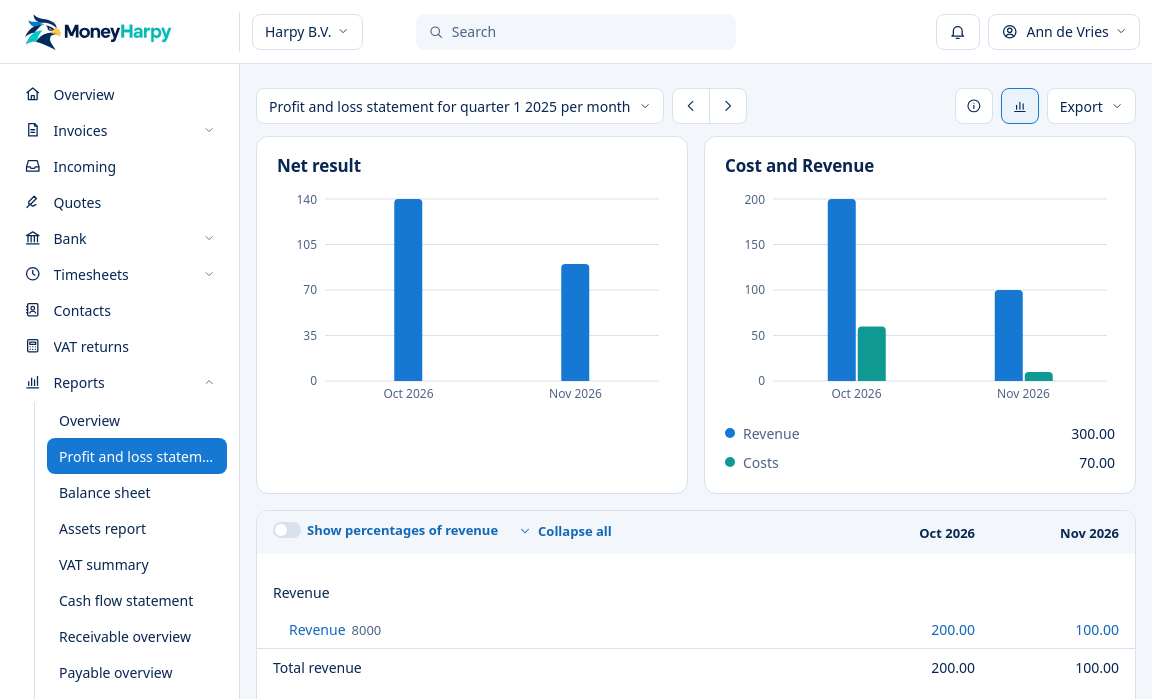
Test: reports › steps to the period before and shows it per quarter
The image size is (1152, 699).
Click the link named "Go to quarter 4 2024" at {"x": 691, "y": 106}, box [672,88,710,124]
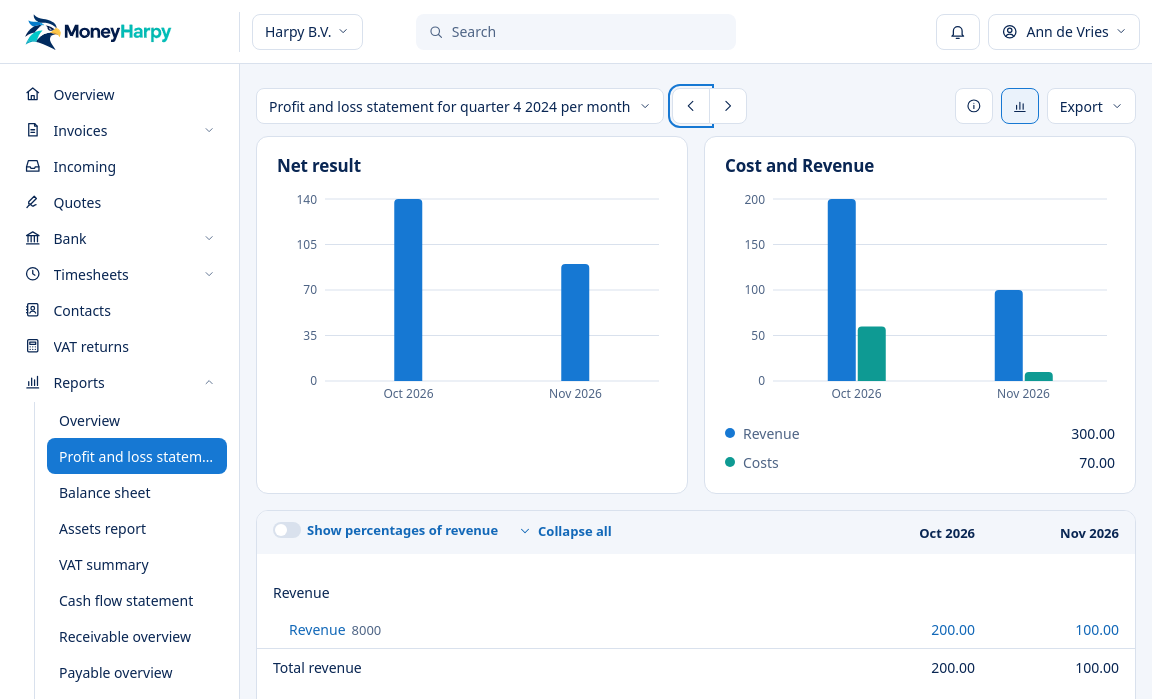
Click the button "Profit and loss statement for quarter 4 2024 per month" at {"x": 460, "y": 106}, box [256,88,664,124]
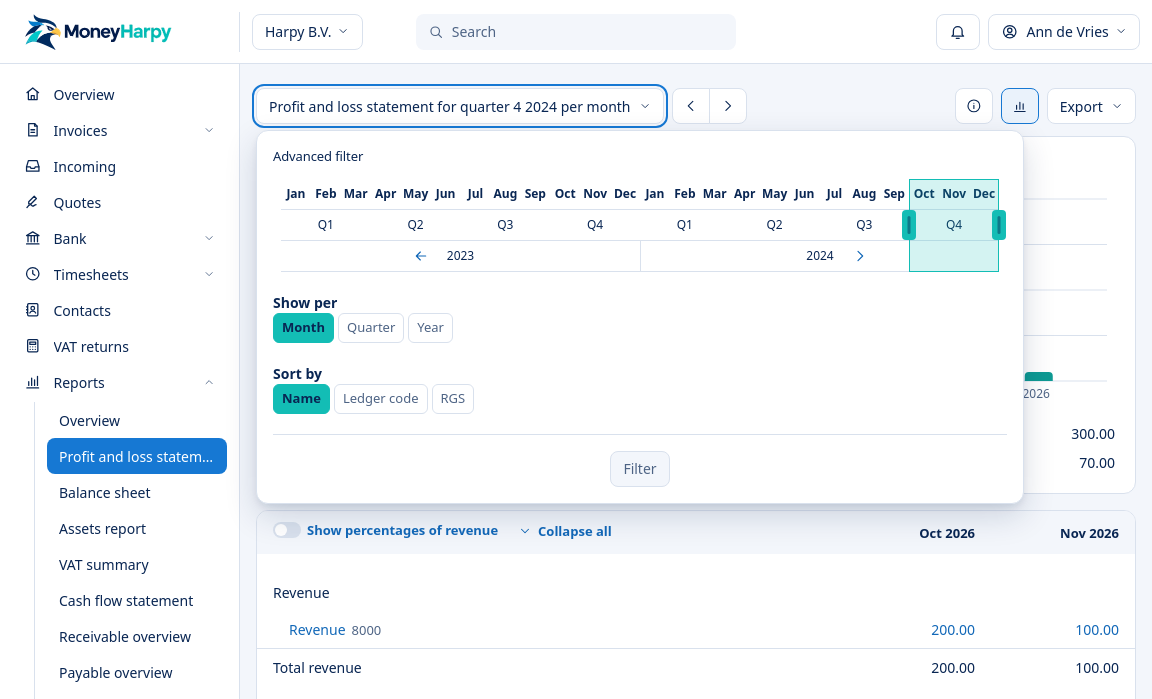
Click the radio button labelled "Quarter" at {"x": 371, "y": 328}, box [338,312,404,342]
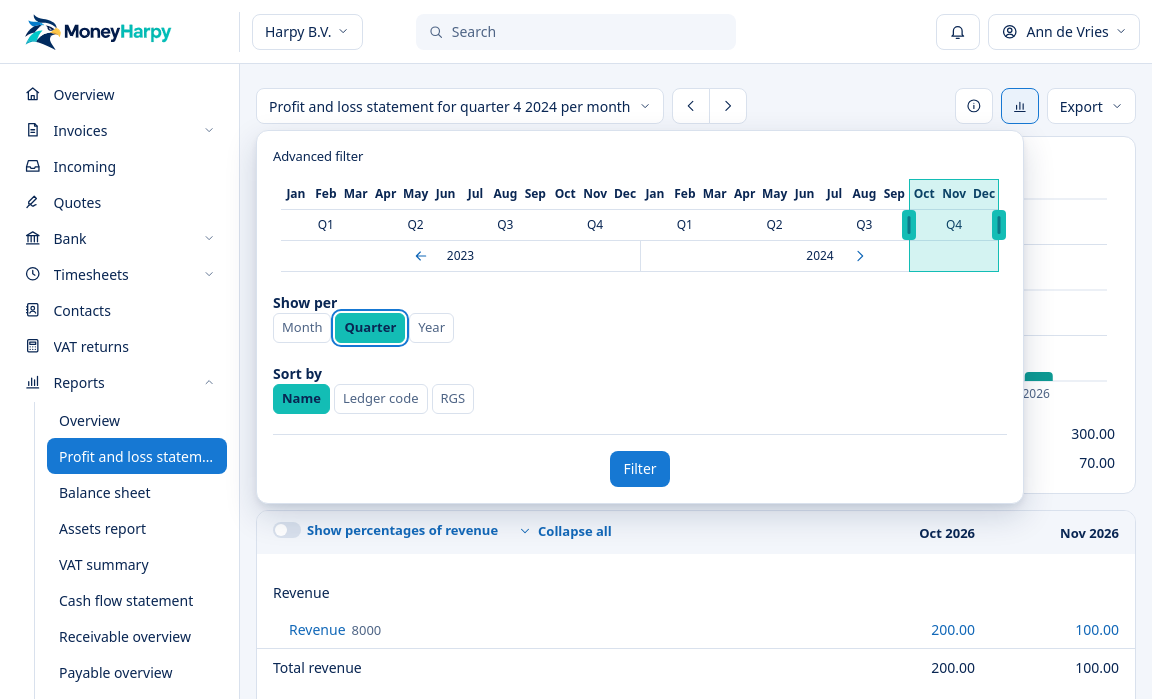
Click the button "Filter" at {"x": 640, "y": 468}, box [610,450,670,486]
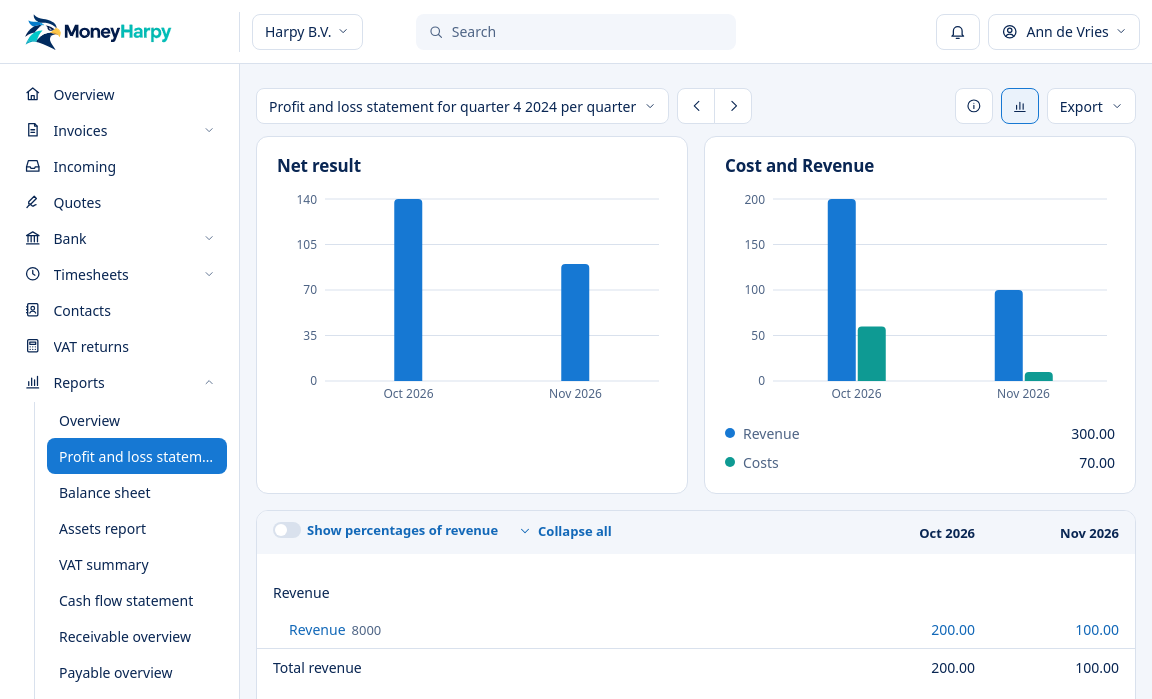
Now the button "Profit and loss statement for quarter 4 2024 per quarter" is shown, box [256,88,670,124]
